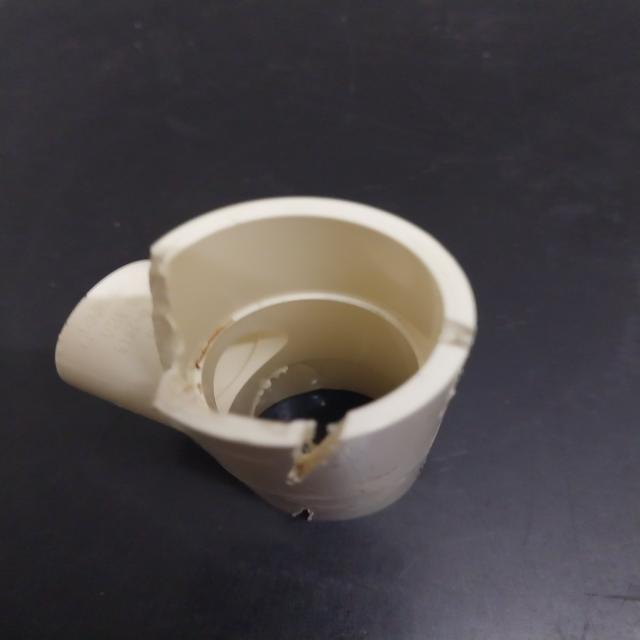Defective: (147, 254, 190, 371), (284, 415, 347, 483), (290, 503, 327, 532)
